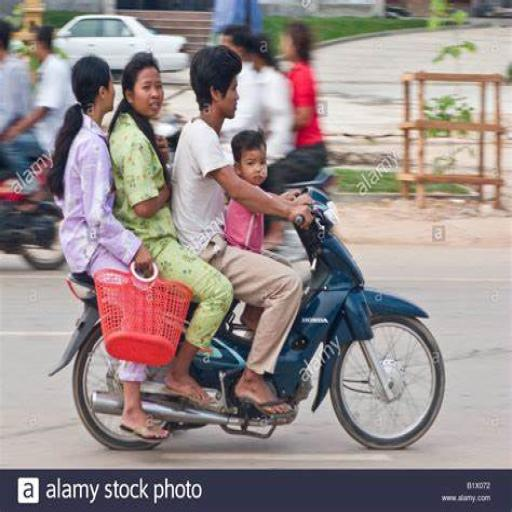overloading: (48, 178, 447, 452)
